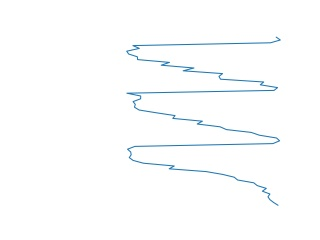distributaryMouthBar: (124, 35, 286, 208)
